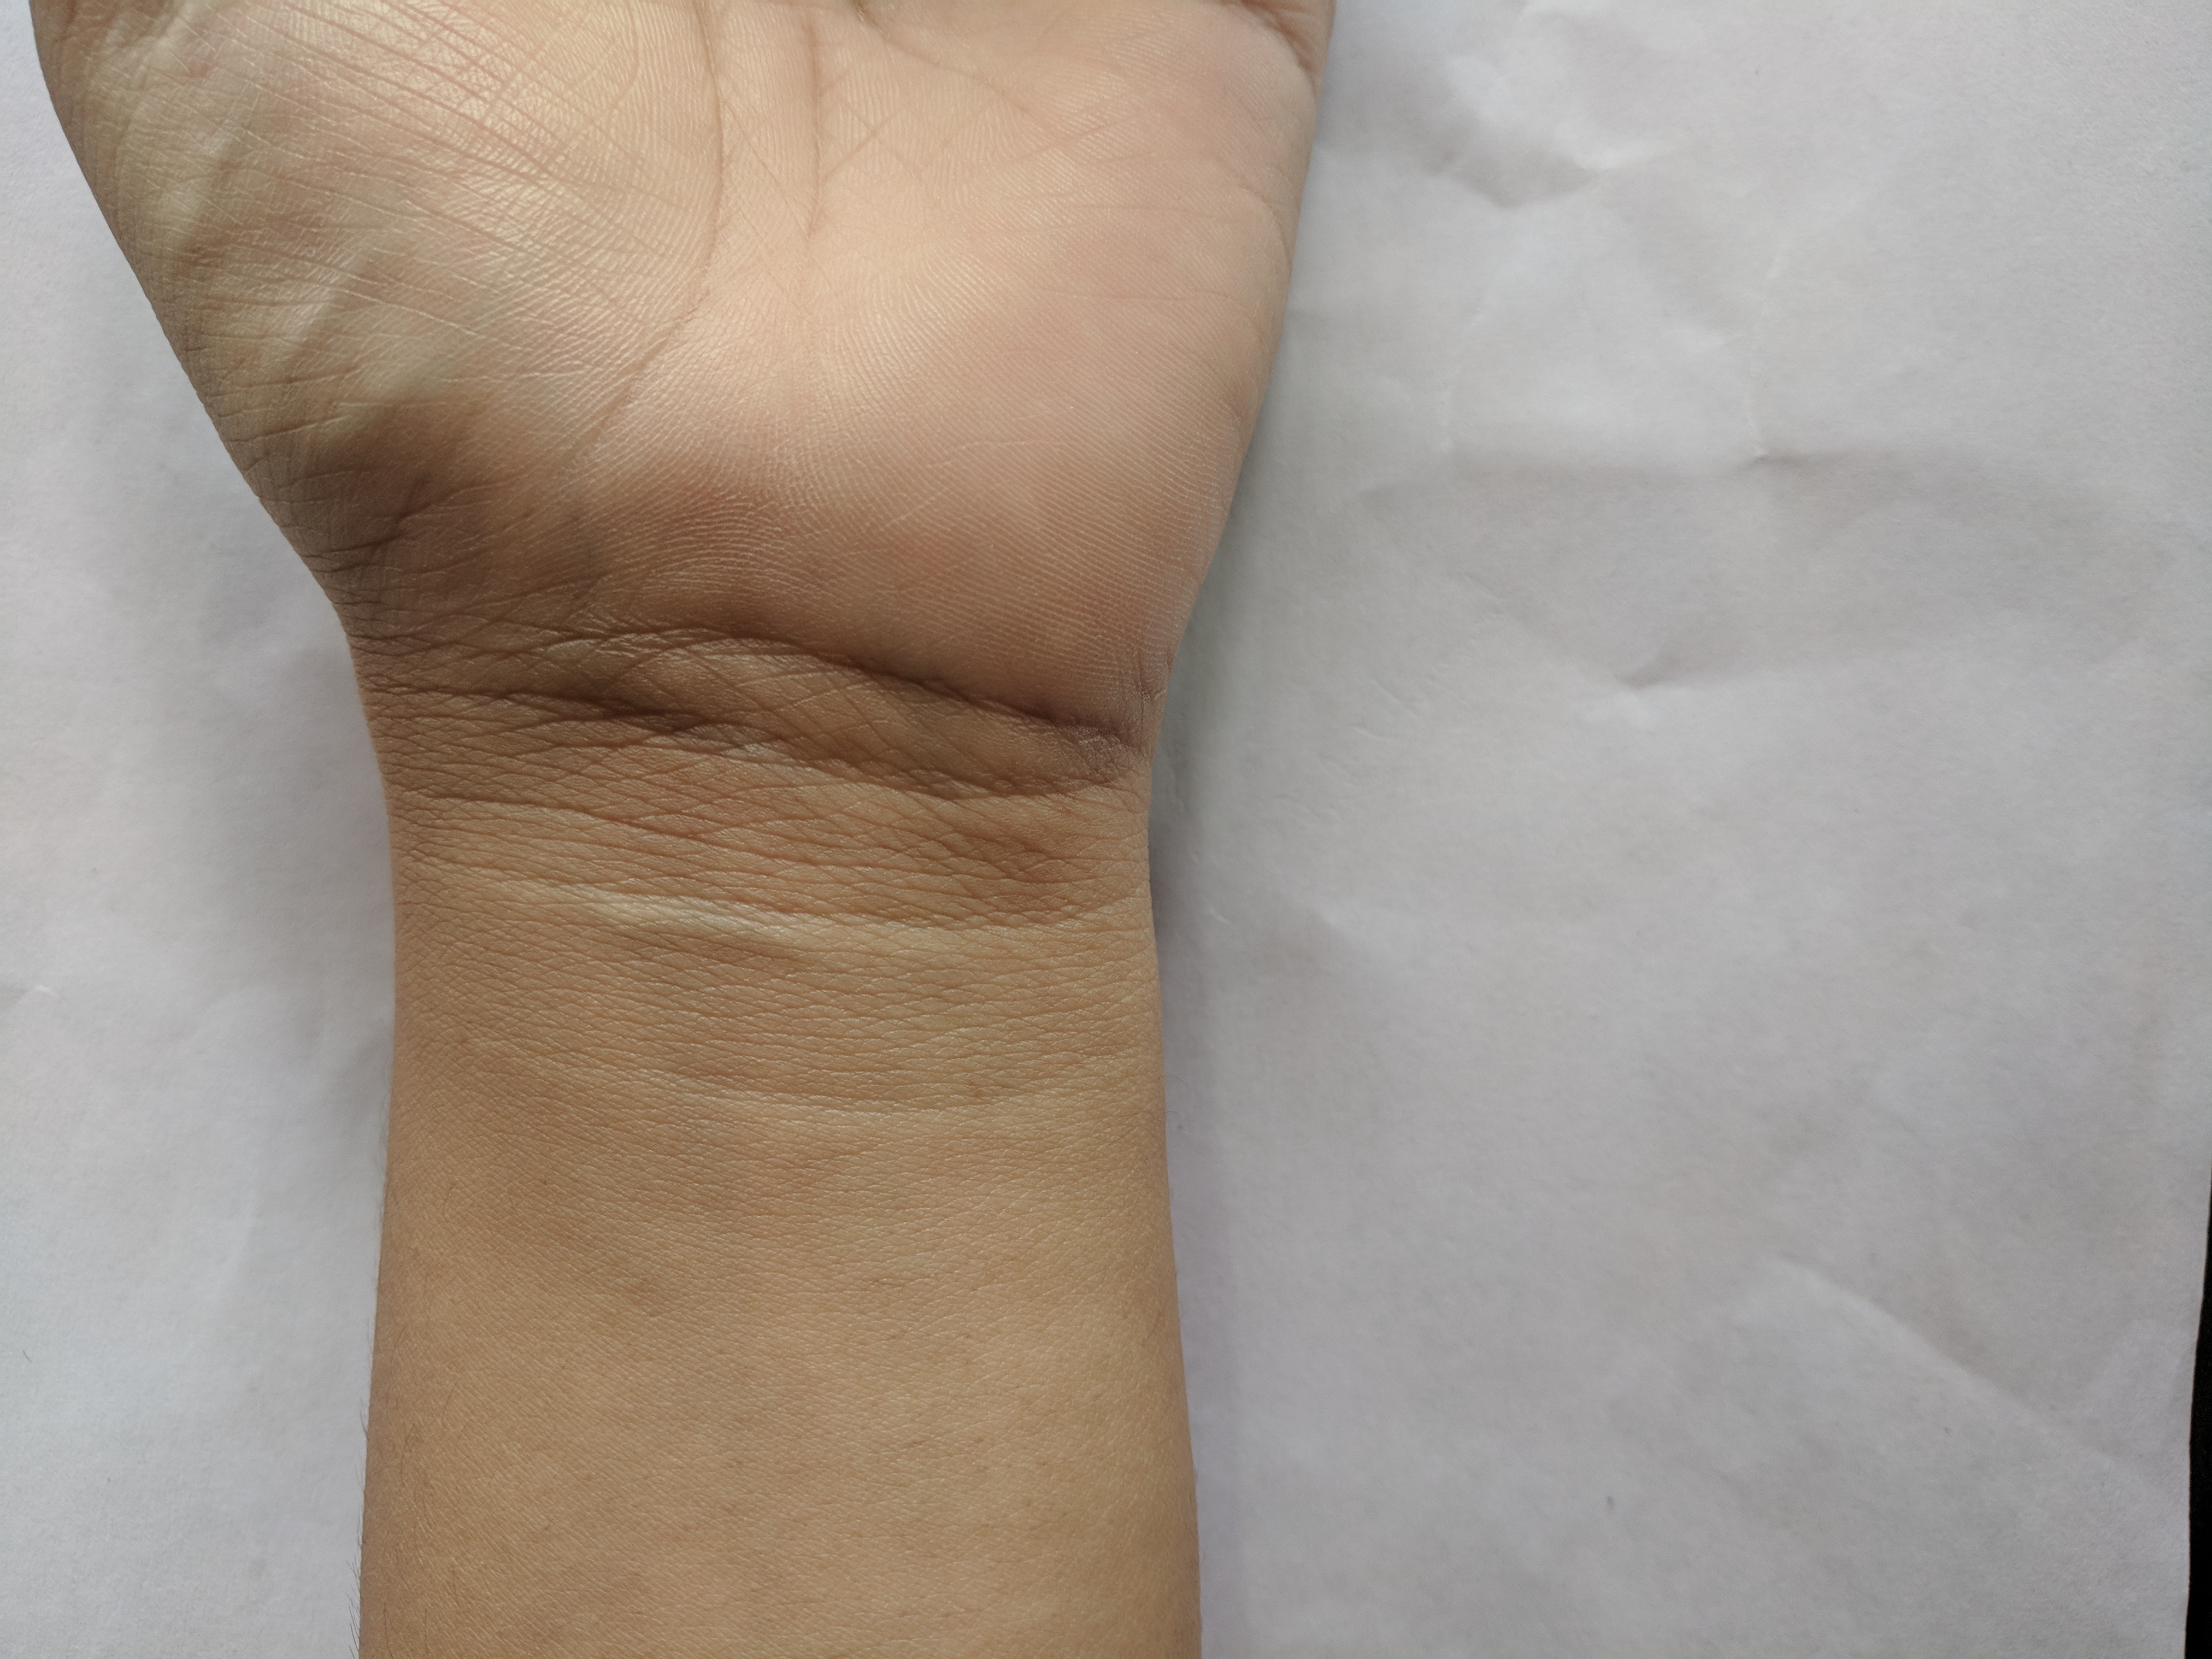lefthandwrist: (275, 523, 1224, 1012)
